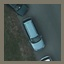car: (24, 19, 46, 52)
